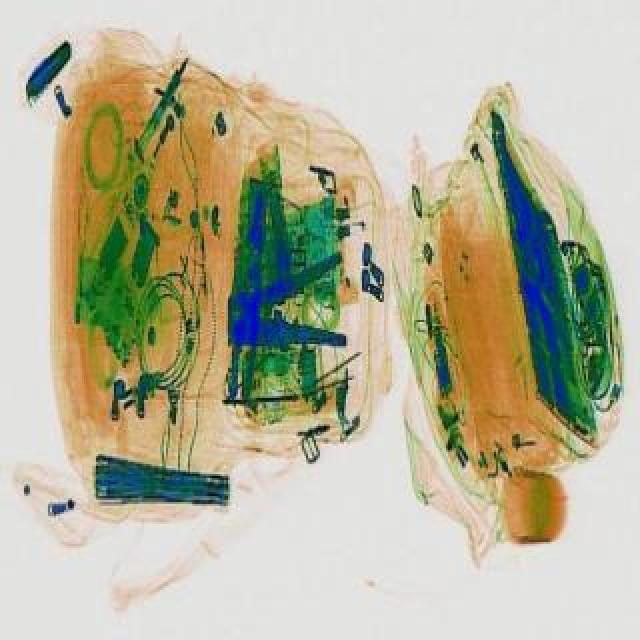wrench: (220, 252, 356, 356)
